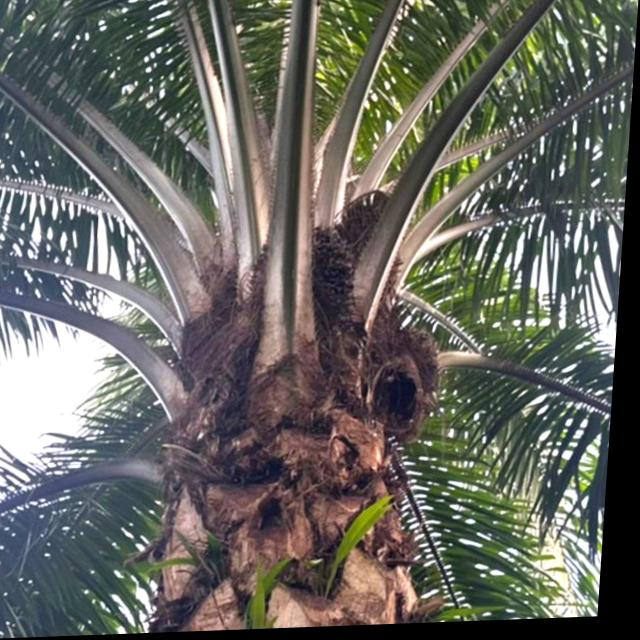almost: (249, 225, 363, 348)
